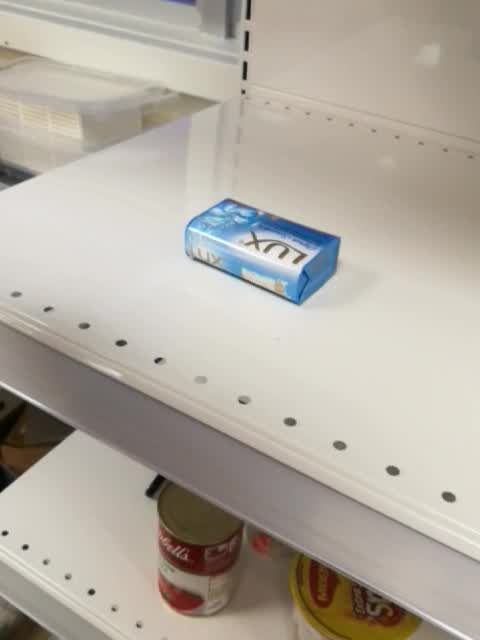soap: (184, 197, 341, 308)
